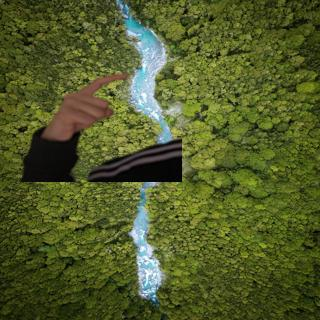WHY: (41, 69, 129, 140)
